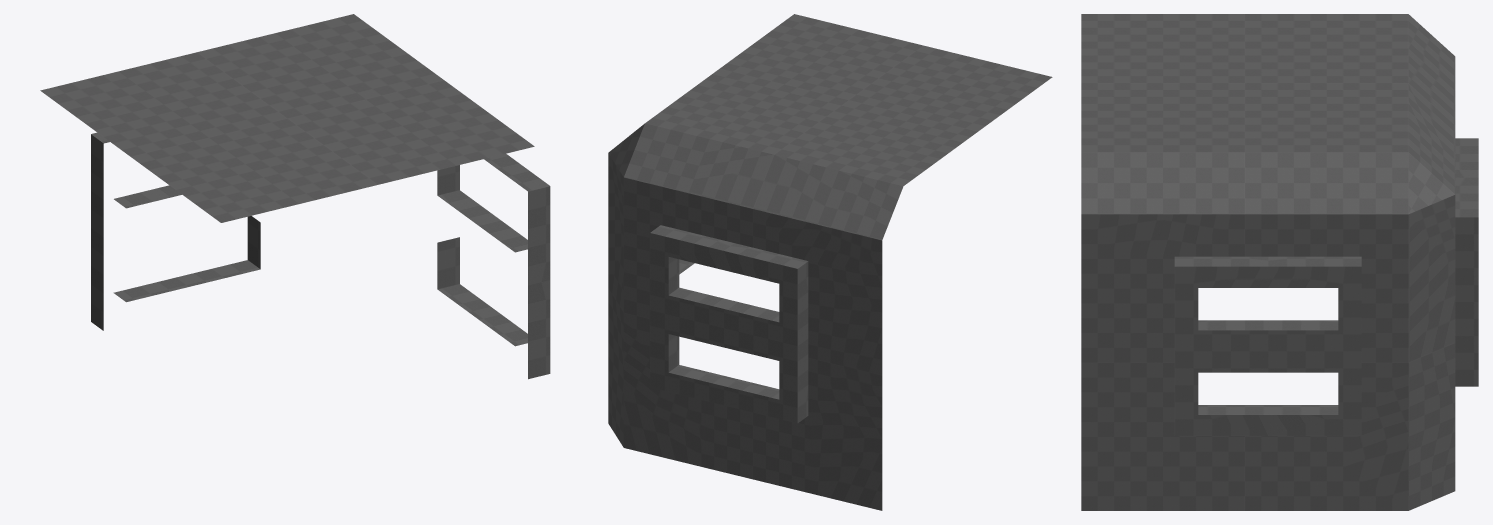
The picture shows the model from 3 angles, left to right: view 1: azimuth 30°, elevation 25°; view 2: azimuth 150°, elevation 25°; view 3: azimuth 270°, elevation 25°; orthographic projection. The views are drawn at different scales.
Visible parts, largest first — view 1: 2; view 2: 2; view 3: 2.
Boxes of the visible parts, x1=… form: 2: x1=40, y1=14, x2=550, y2=379; 2: x1=608, y1=14, x2=1052, y2=510; 2: x1=1081, y1=14, x2=1478, y2=510.
Bounding box in the file's own units: 2.12 × 2 × 2.12.
Materials: 2 (2 with a texture image).
